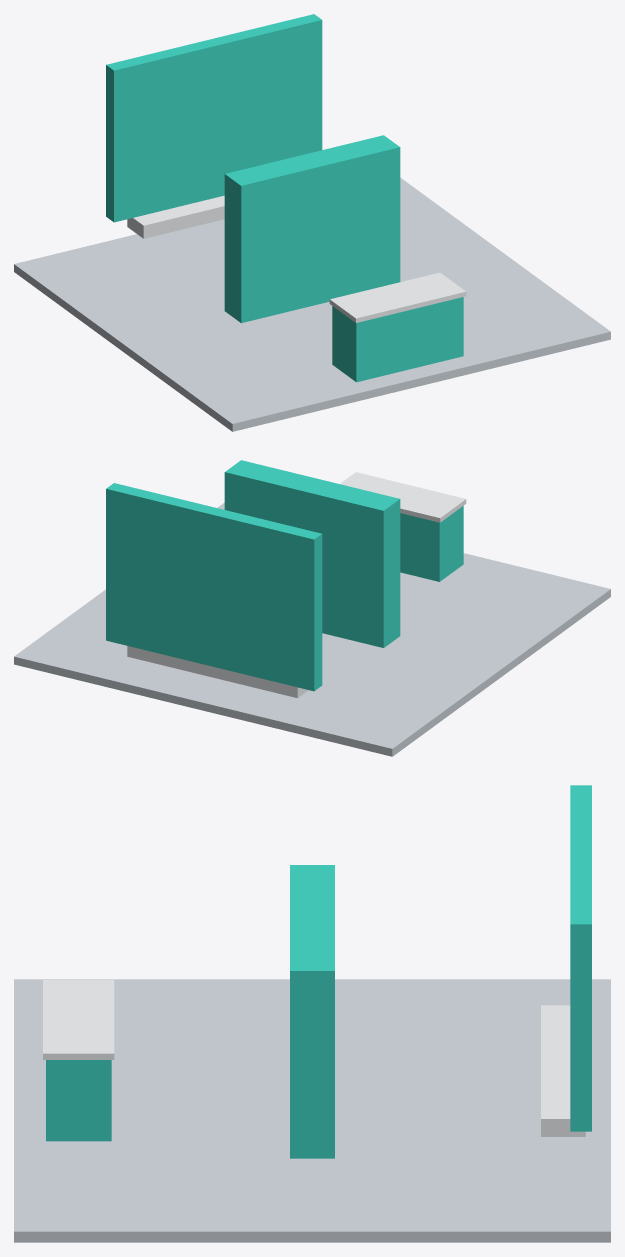
The picture shows the model from 3 angles, top to bottom: view 1: azimuth 30°, elevation 25°; view 2: azimuth 150°, elevation 25°; view 3: azimuth 270°, elevation 25°; orthographic projection. The views are drawn at different scales.
Visible parts, largest first — view 1: Exhibition Booth Concept; view 2: Exhibition Booth Concept; view 3: Exhibition Booth Concept.
Part boxes in pixels (x1,y1,x2,y2): Exhibition Booth Concept: (14,14,610,431); Exhibition Booth Concept: (14,460,610,756); Exhibition Booth Concept: (14,785,610,1242).
Size of the model in its own units: 6 by 2.9 by 6.
